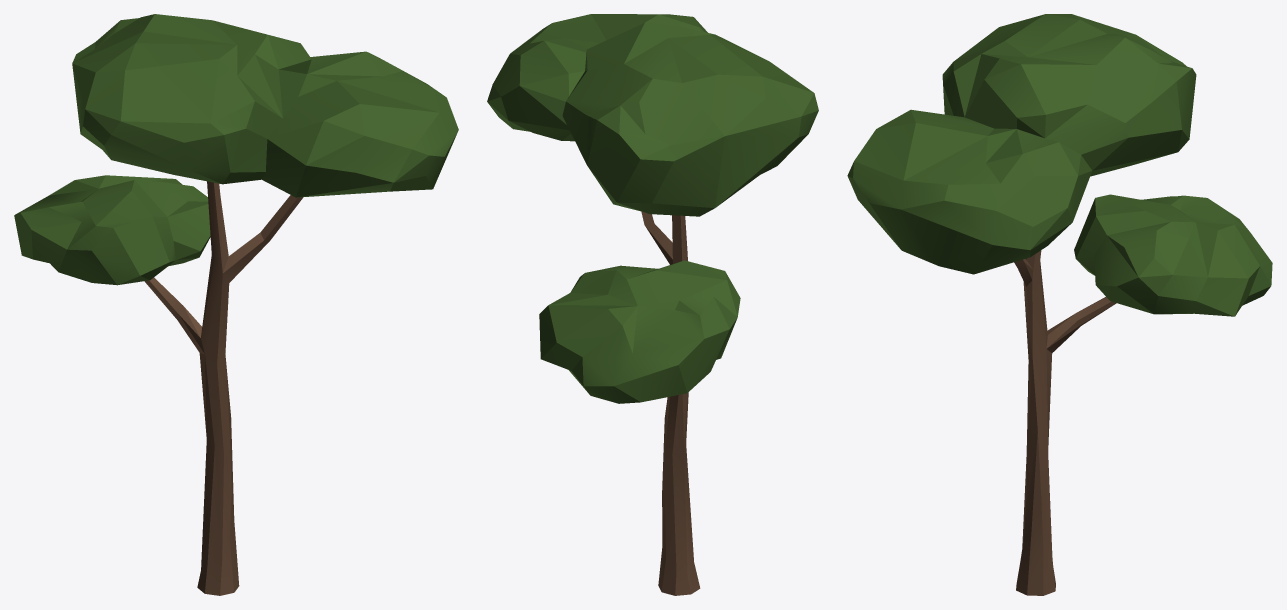
Rendered from BroadleafLTallB.fbx.
3 renders of one model, left to right at view 1: azimuth 30°, elevation 25°; view 2: azimuth 150°, elevation 25°; view 3: azimuth 270°, elevation 25°, orthographic.
Parts seen in each view (by area): view 1: BroadleafTallB; view 2: BroadleafTallB; view 3: BroadleafTallB.
Part boxes in pixels (left/top/right/bottom): BroadleafTallB: left=14, top=14, right=458, bottom=595; BroadleafTallB: left=487, top=14, right=818, bottom=595; BroadleafTallB: left=847, top=14, right=1272, bottom=595.
Bounding box in the file's own units: 1173 × 1881 × 1333.
